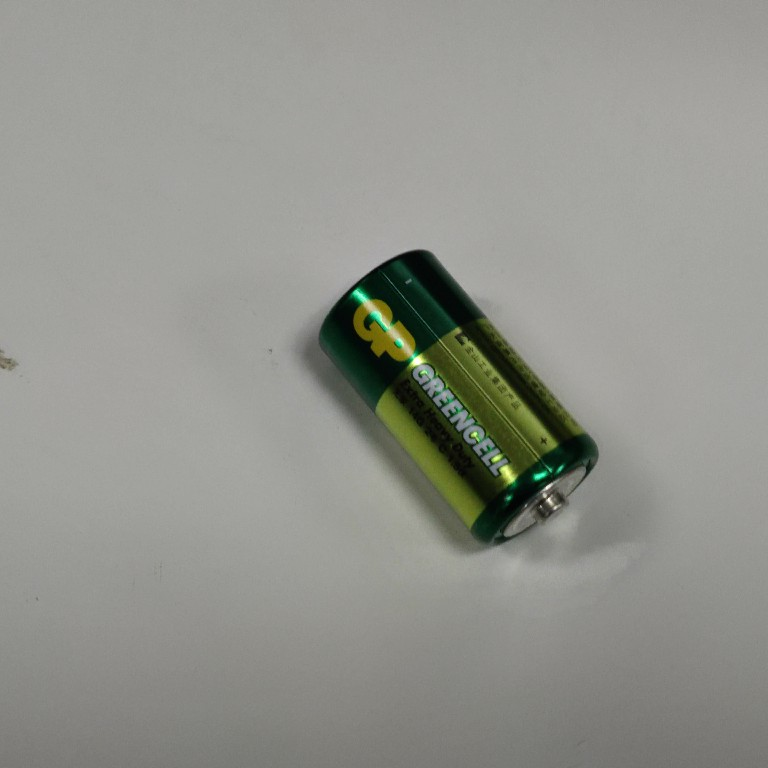charge: (314, 246, 605, 550)
